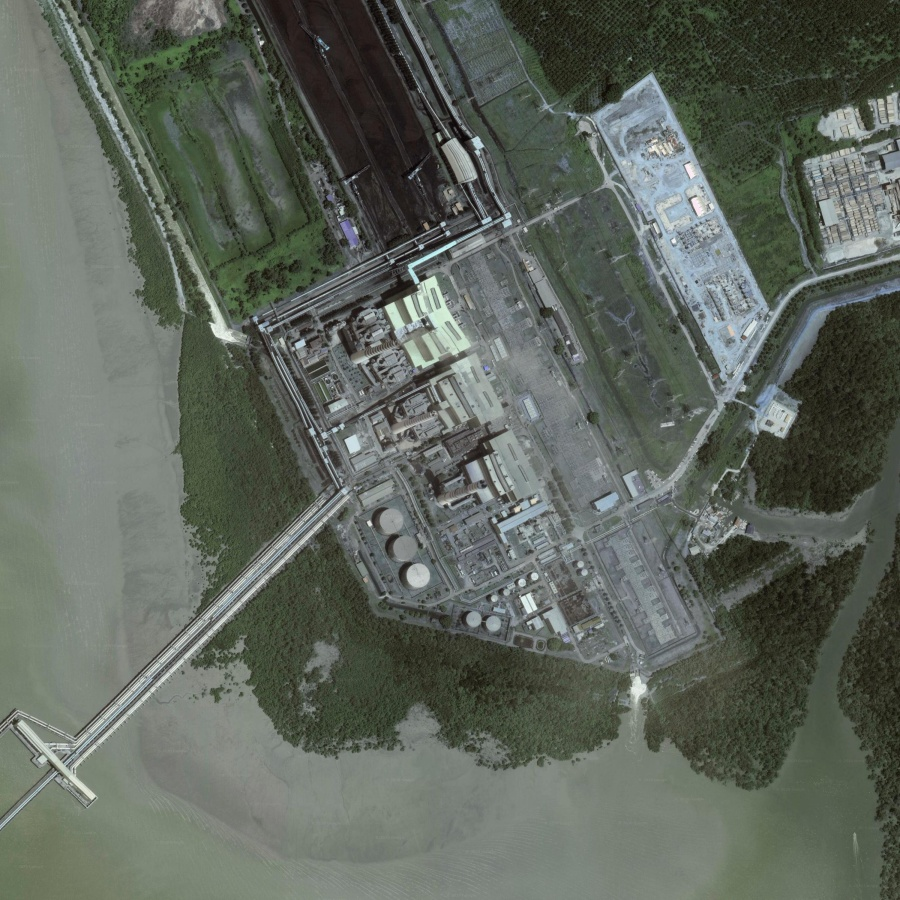PowerPlant: (275, 290, 640, 652)
